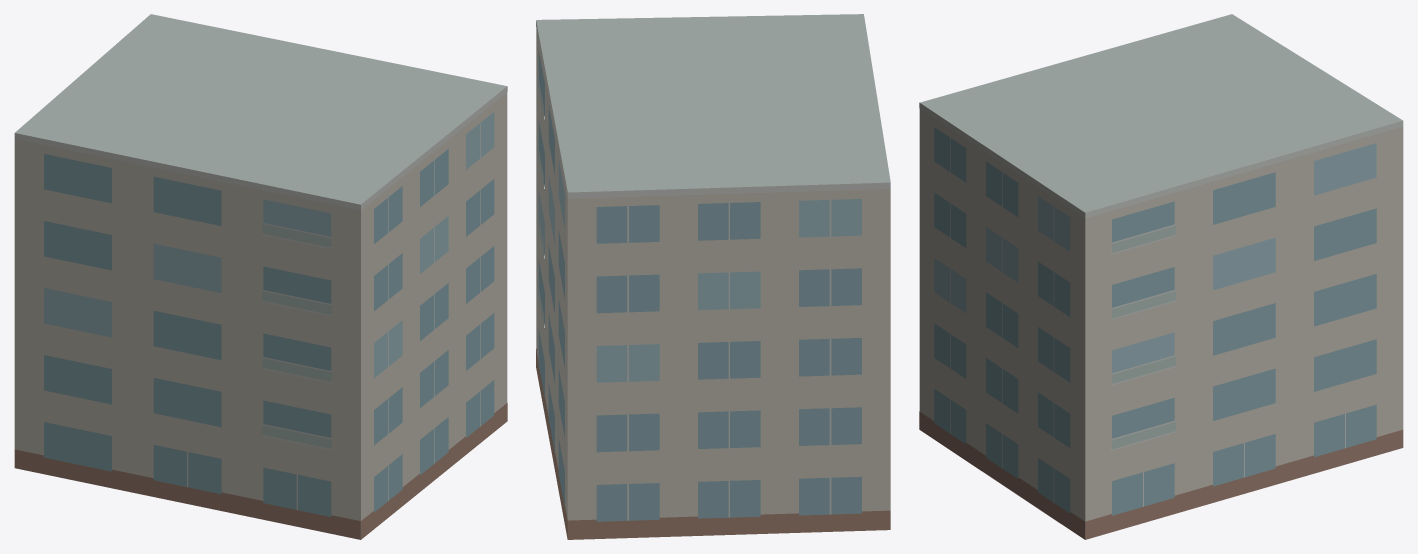
The model's file is survey-upis-32891656.glb.
3 renders of one model, left to right at view 1: azimuth 30°, elevation 25°; view 2: azimuth 150°, elevation 25°; view 3: azimuth 270°, elevation 25°, orthographic. The views are drawn at different scales.
Parts seen in each view (by area): view 1: survey-upis-32891656.tmp; view 2: survey-upis-32891656.tmp; view 3: survey-upis-32891656.tmp.
Boxes of the visible parts, x1,y1,x2,y2 form: survey-upis-32891656.tmp: (14,14,507,539); survey-upis-32891656.tmp: (536,14,890,539); survey-upis-32891656.tmp: (919,14,1403,539).
Bounding box in the file's own units: 17.87 × 13.7 × 18.37.
